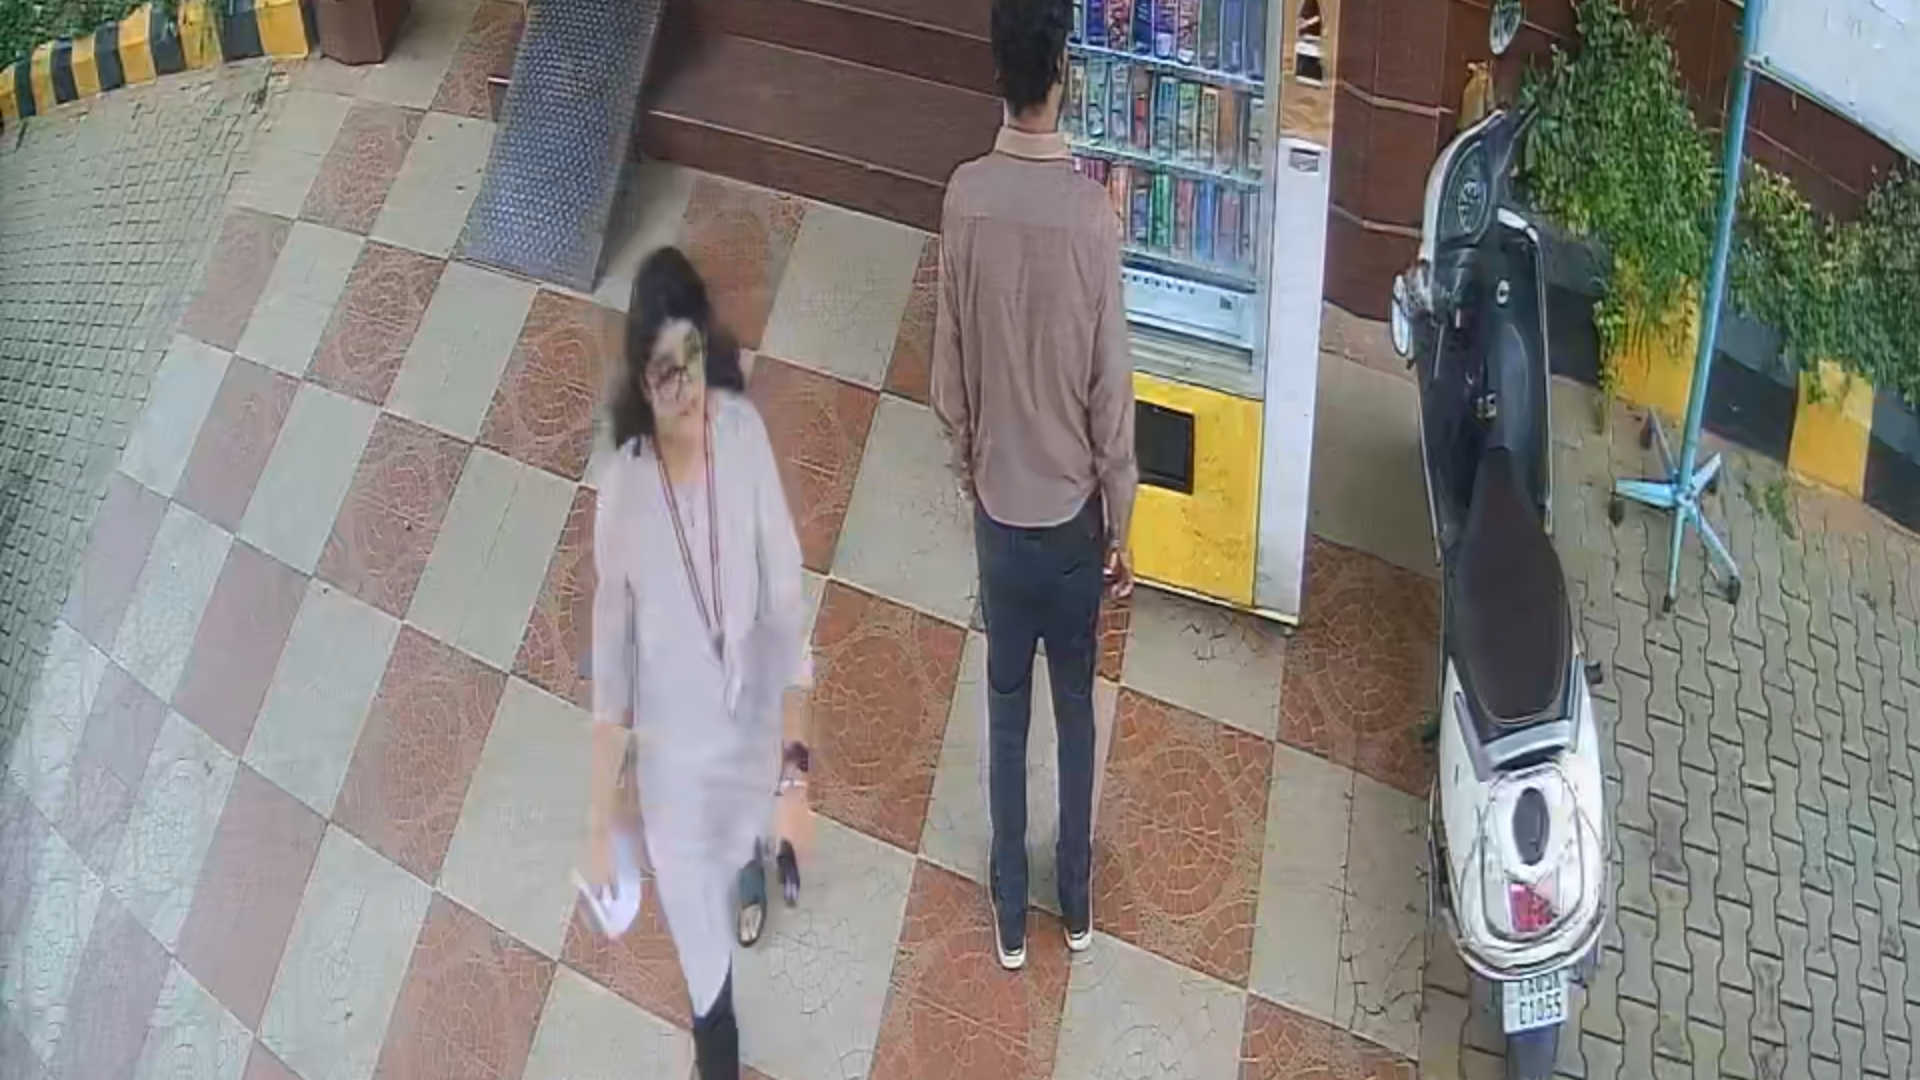not intruder: (585, 243, 812, 1080)
